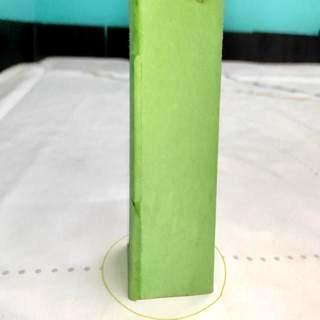greenbox: (127, 0, 223, 299)
